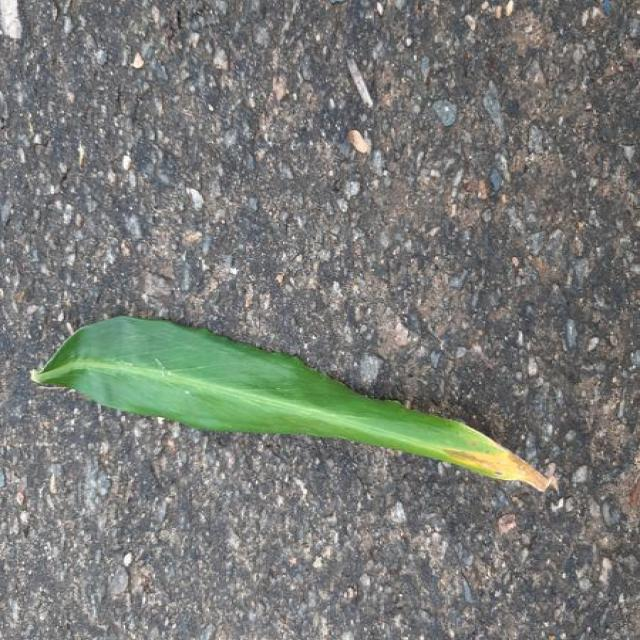ginger: (32, 319, 557, 491)
